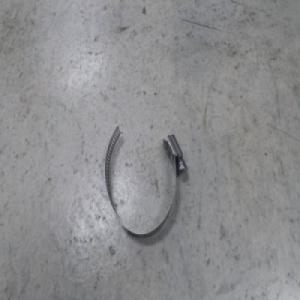AdjustableClamp: (105, 124, 187, 237)
